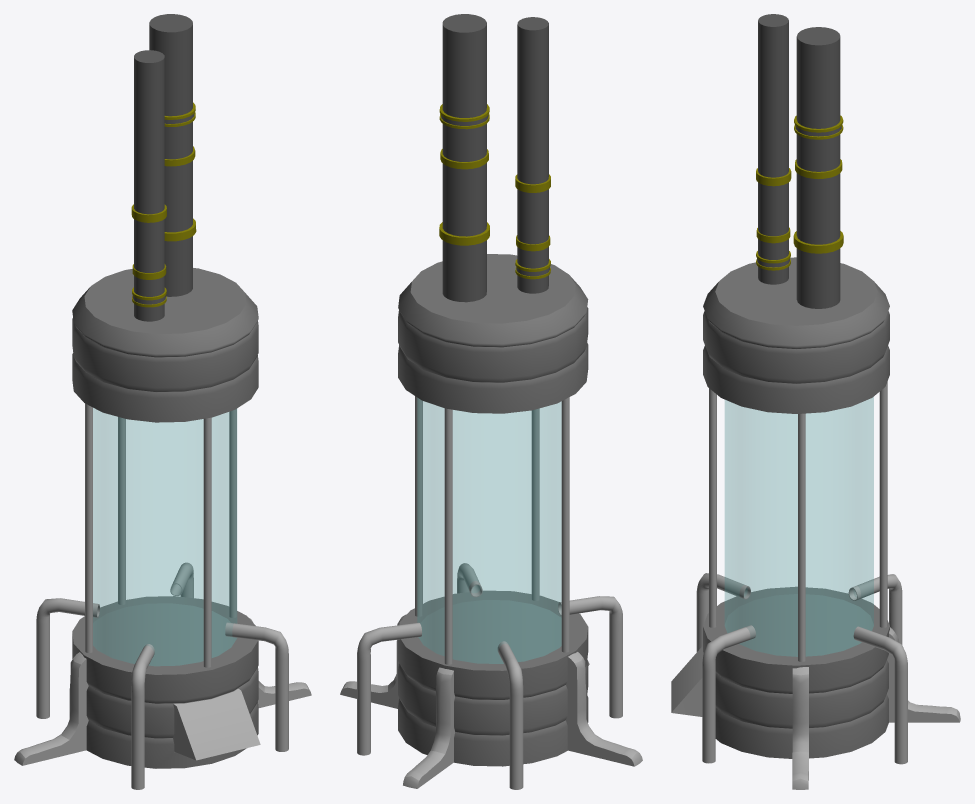
The model's file is LapCapsule.fbx.
The picture shows the model from 3 angles, left to right: view 1: azimuth 30°, elevation 25°; view 2: azimuth 150°, elevation 25°; view 3: azimuth 270°, elevation 25°; orthographic projection. The views are drawn at different scales.
Visible parts, largest first — view 1: pCylinder48; view 2: pCylinder48; view 3: pCylinder48.
Part boxes in pixels (x1,y1,x2,y2): pCylinder48: [14, 14, 311, 789]; pCylinder48: [340, 14, 642, 789]; pCylinder48: [671, 14, 960, 789].
Size of the model in its own units: 64.46 by 148 by 55.8.
